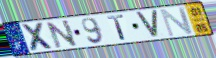9: (82, 17, 106, 45)
N: (158, 6, 195, 38), (44, 19, 80, 50)
T: (105, 14, 128, 42)
V: (134, 9, 160, 39)
X: (20, 21, 57, 53)
